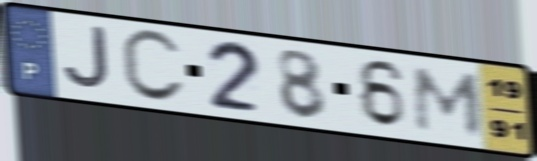2: (204, 36, 267, 118)
6: (356, 58, 407, 131)
8: (274, 47, 332, 122)
C: (118, 27, 189, 106)
J: (59, 24, 114, 94)
M: (412, 64, 486, 139)
